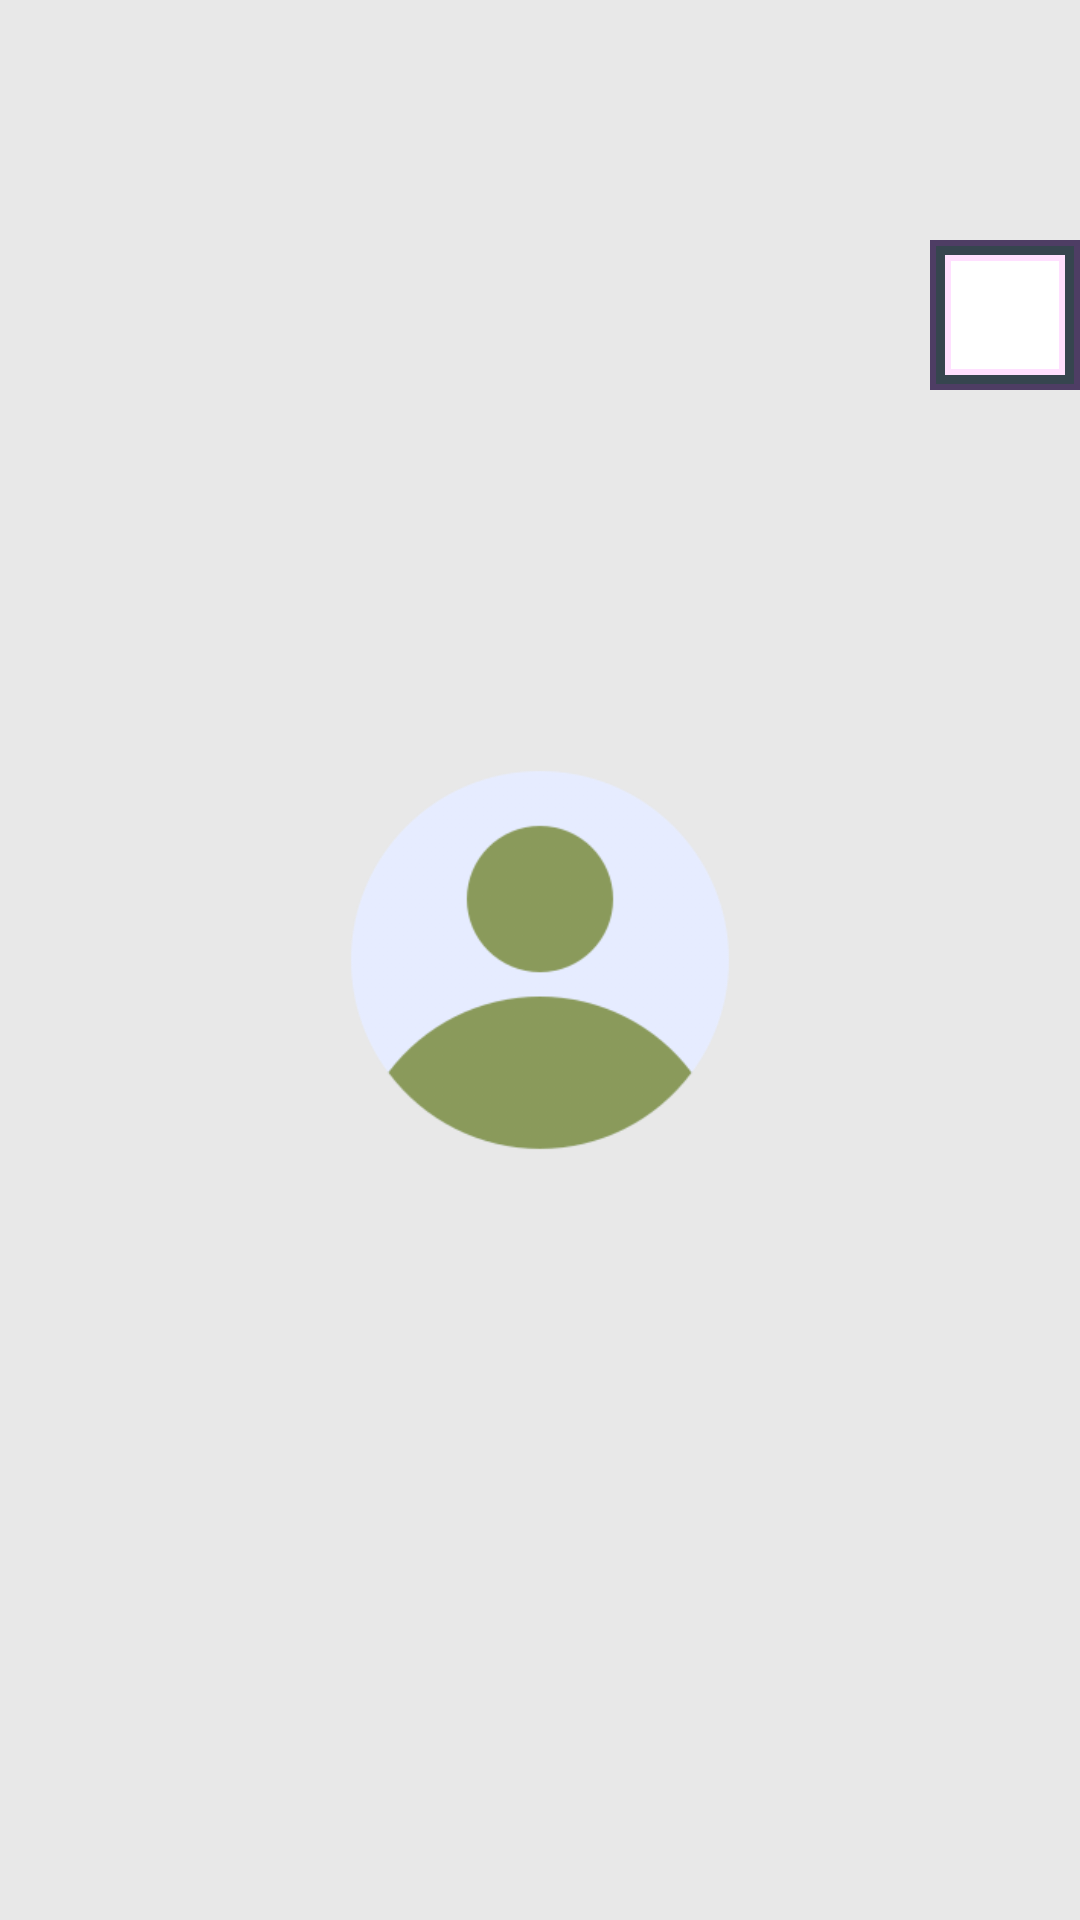

Icons on this 1080 x 1920 Android screen, each with the point to tap as point (x, y):
user: point (539, 987)
